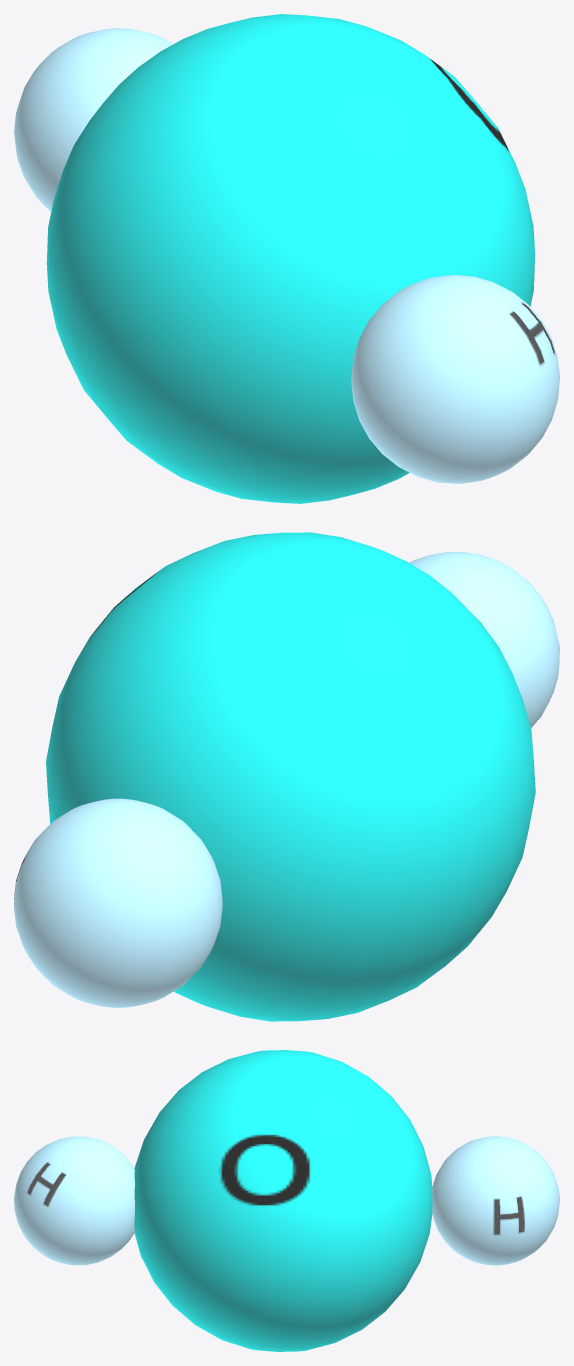
The picture shows the model from 3 angles, top to bottom: view 1: azimuth 30°, elevation 25°; view 2: azimuth 150°, elevation 25°; view 3: azimuth 270°, elevation 25°; orthographic projection. The views are drawn at different scales.
Parts seen in each view (by area): view 1: 球体, 球体.001, 球体.002; view 2: 球体, 球体.002, 球体.001; view 3: 球体, 球体.002, 球体.001.
Boxes of the visible parts, x1,y1,x2,y2 form: 球体: [46, 14, 535, 503]; 球体.001: [351, 275, 559, 483]; 球体.002: [14, 28, 173, 211]; 球体: [46, 532, 535, 1021]; 球体.002: [14, 798, 222, 1007]; 球体.001: [409, 552, 559, 727]; 球体: [134, 1050, 432, 1351]; 球体.002: [432, 1136, 559, 1265]; 球体.001: [14, 1136, 134, 1265].
Bounding box in the file's own units: 0.7196 × 0.7205 × 1.3.
3 materials, 3 textured.
